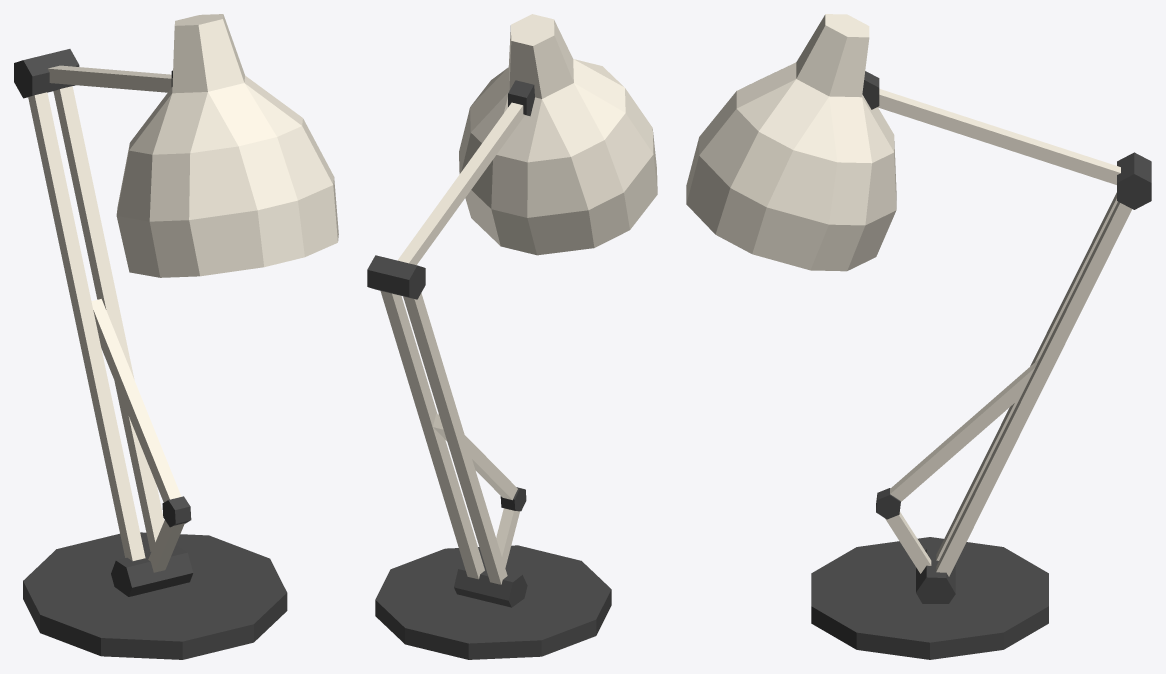
File: Lamp_Childroom2_tablelamp_231109.glb
3 renders of one model, left to right at view 1: azimuth 30°, elevation 25°; view 2: azimuth 150°, elevation 25°; view 3: azimuth 270°, elevation 25°, orthographic. The views are drawn at different scales.
Parts seen in each view (by area): view 1: Childroom2_tablelamp; view 2: Childroom2_tablelamp; view 3: Childroom2_tablelamp.
Part boxes in pixels (box(x1,y1,x2,y2)): Childroom2_tablelamp: box(14, 14, 338, 659); Childroom2_tablelamp: box(367, 14, 657, 659); Childroom2_tablelamp: box(686, 14, 1151, 659).
Bounding box in the file's own units: 0.4972 × 1.29 × 0.9248.
Materials: 1 (1 with a texture image).
